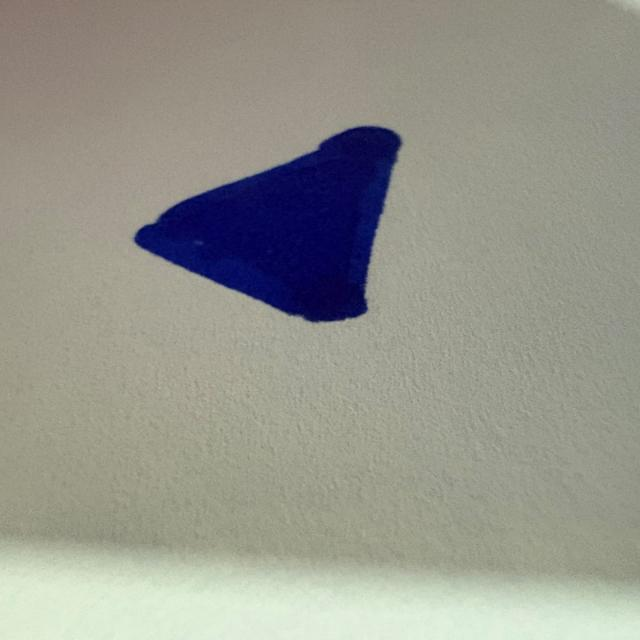Triangle: (134, 126, 402, 322)
